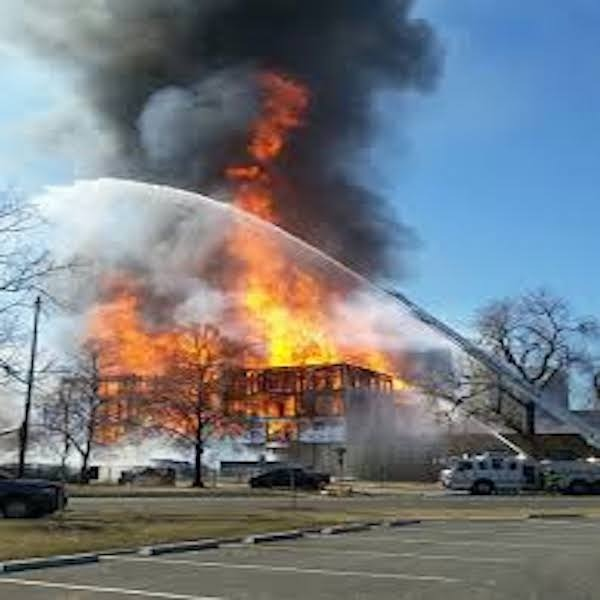fire: (245, 82, 297, 263), (247, 274, 334, 368), (110, 297, 166, 371), (266, 394, 295, 422), (364, 351, 394, 372)
